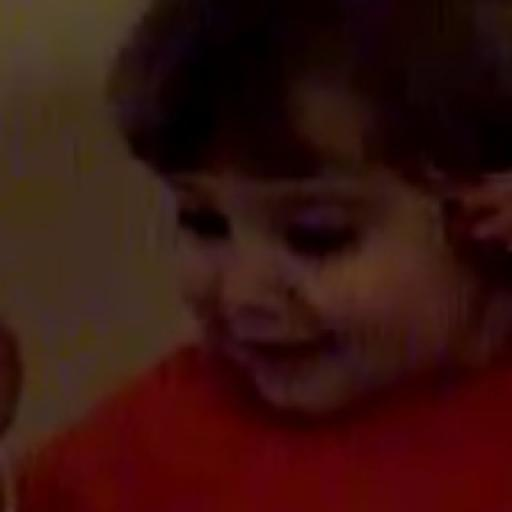Autism: (57, 0, 512, 457)
